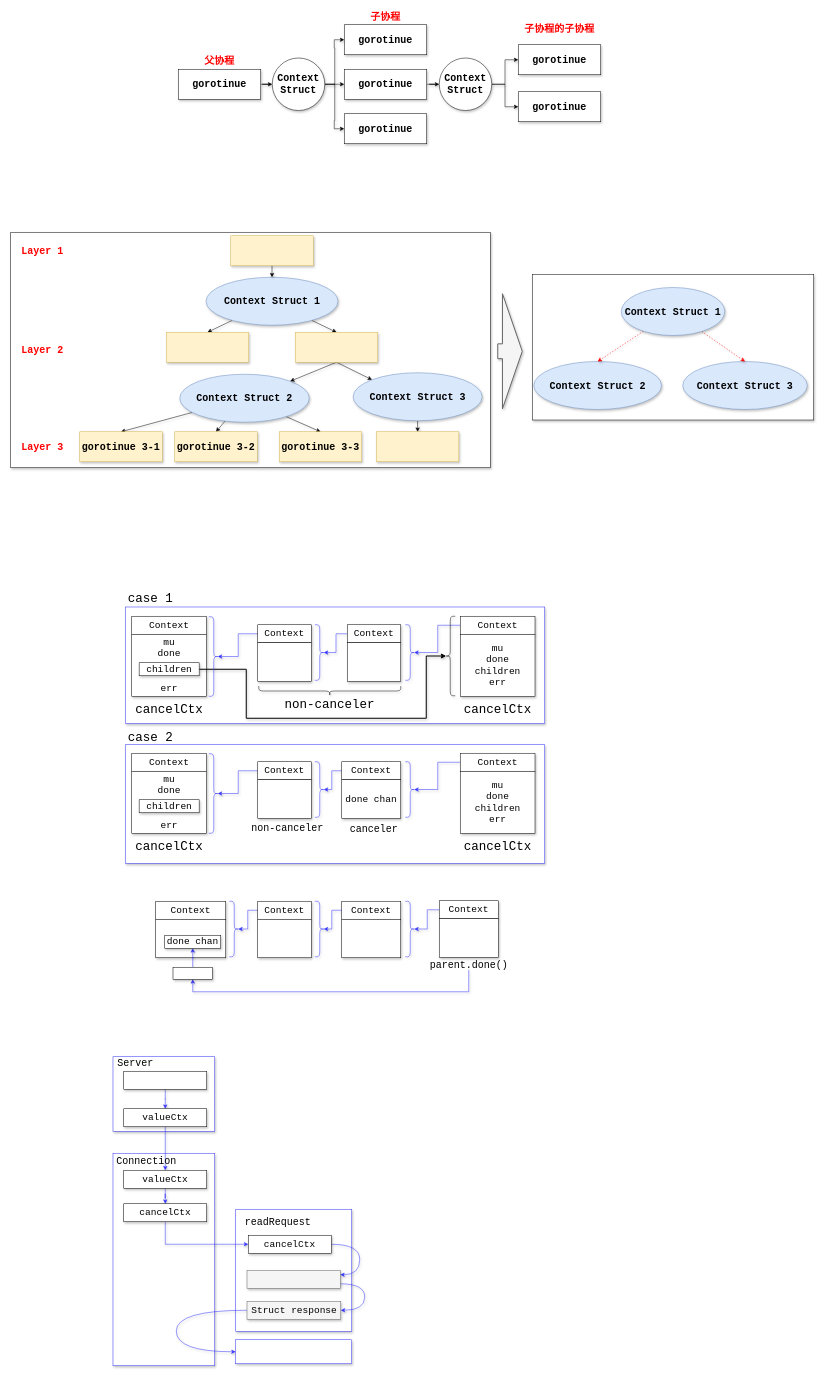
Image size: 826x1378. Some labels were removed from this diagram. The shapes that lost their labels are listed below. From the top down, each one's centre as x and y in pixels, then its label:
point (272, 251): gorotinue 1-1
point (208, 348): gorotinue 2-1
point (337, 348): gorotinue 2-2
point (418, 447): gorotinue 3-4
point (193, 974): Done()
point (165, 1081): emptyCtx
point (293, 1280): Struct Request
point (294, 1352): ServeHTTP
